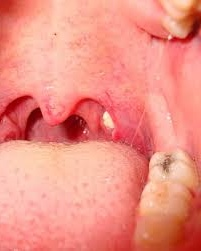Ulcer: (100, 110, 118, 134)
